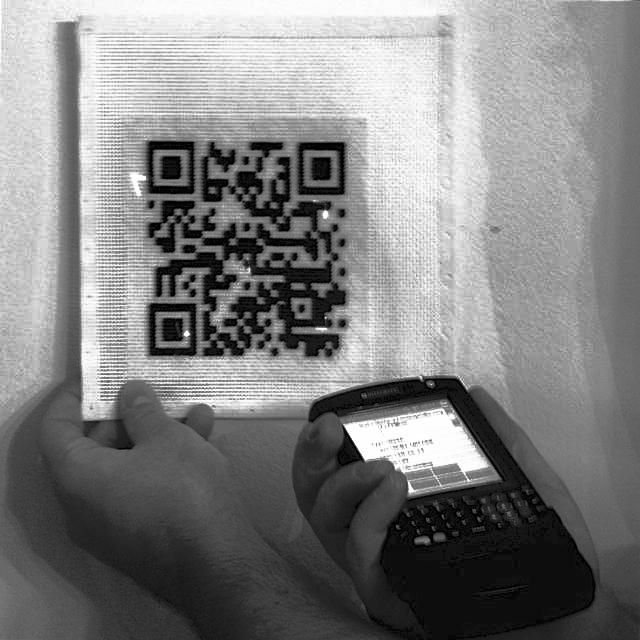qr_code: (148, 142, 345, 357)
